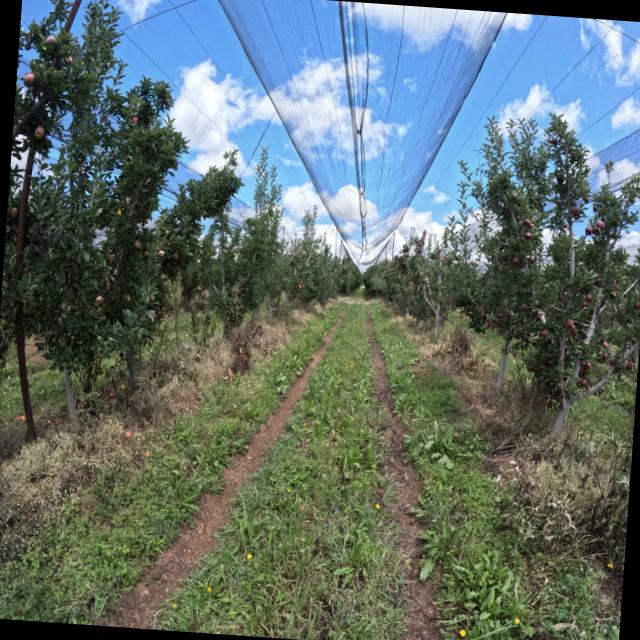-FireBlight-: (478, 308, 512, 335)
